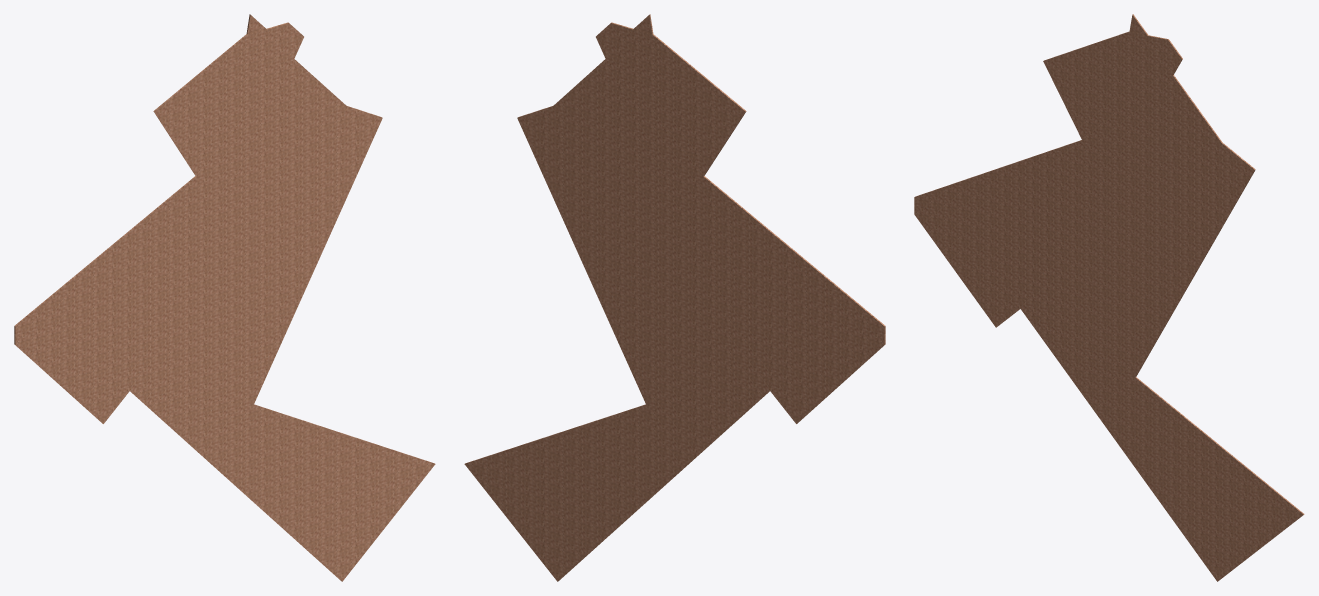
Rendered from indoor_clean_less_dense_suelo.obj.
3 renders of one model, left to right at view 1: azimuth 30°, elevation 25°; view 2: azimuth 150°, elevation 25°; view 3: azimuth 330°, elevation 25°, orthographic. The views are drawn at different scales.
Size of the model in its own units: 27.67 by 37.1 by 0.1.
1 material, 1 textured.
